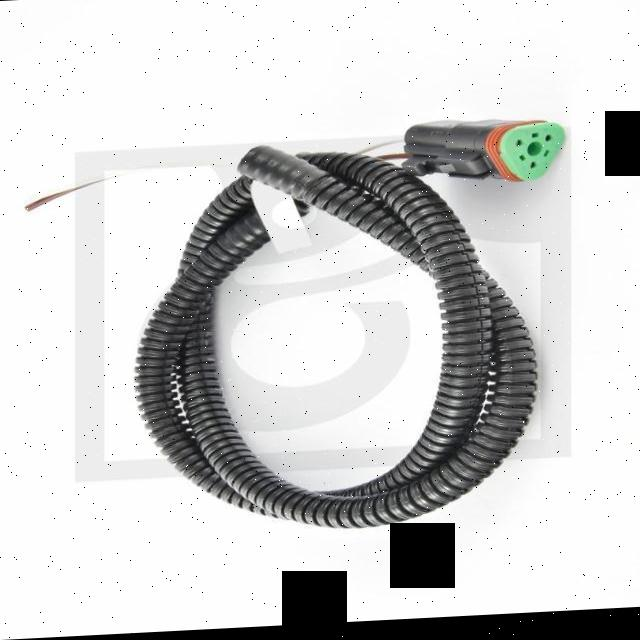connector: (403, 125, 565, 187)
